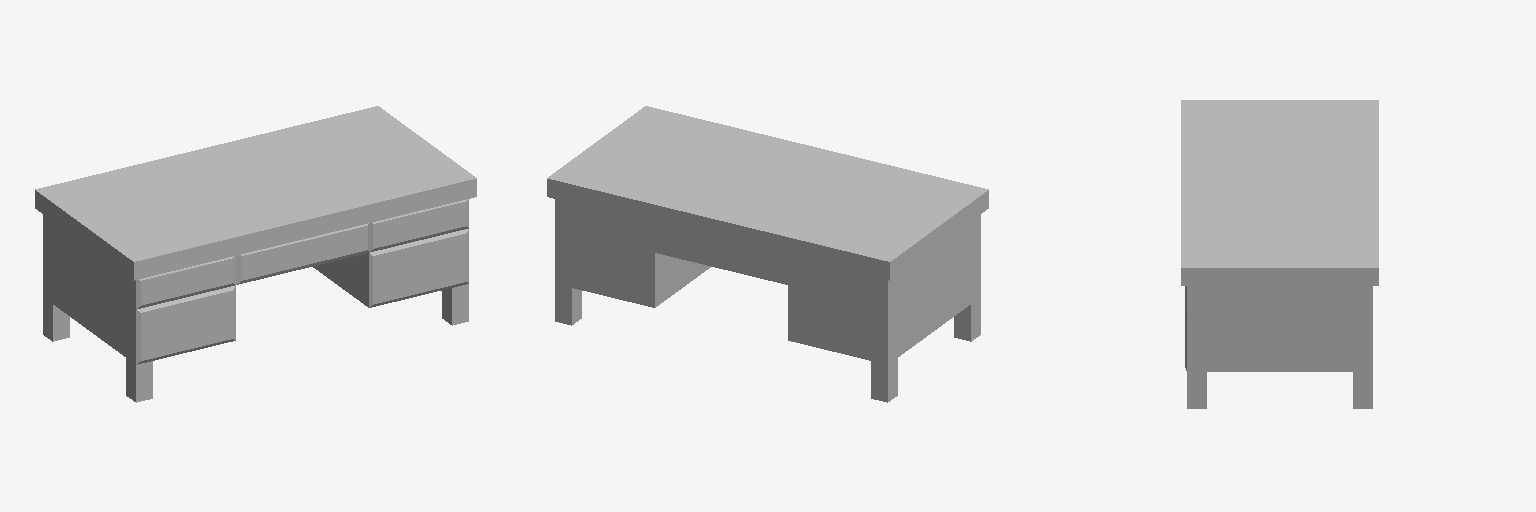
The model's file is DressingTable.obj.
3 views of the same model, side by side, from view 1: azimuth 30°, elevation 25°; view 2: azimuth 150°, elevation 25°; view 3: azimuth 270°, elevation 25° (orthographic).
Parts seen in each view (by area): view 1: DressingTable; view 2: DressingTable; view 3: DressingTable.
Part boxes in pixels (x1,y1,x2,y2): DressingTable: (35,106,476,402); DressingTable: (547,106,988,402); DressingTable: (1181,100,1378,408).
Bounding box in the file's own units: 2.2 × 0.8819 × 1.1.